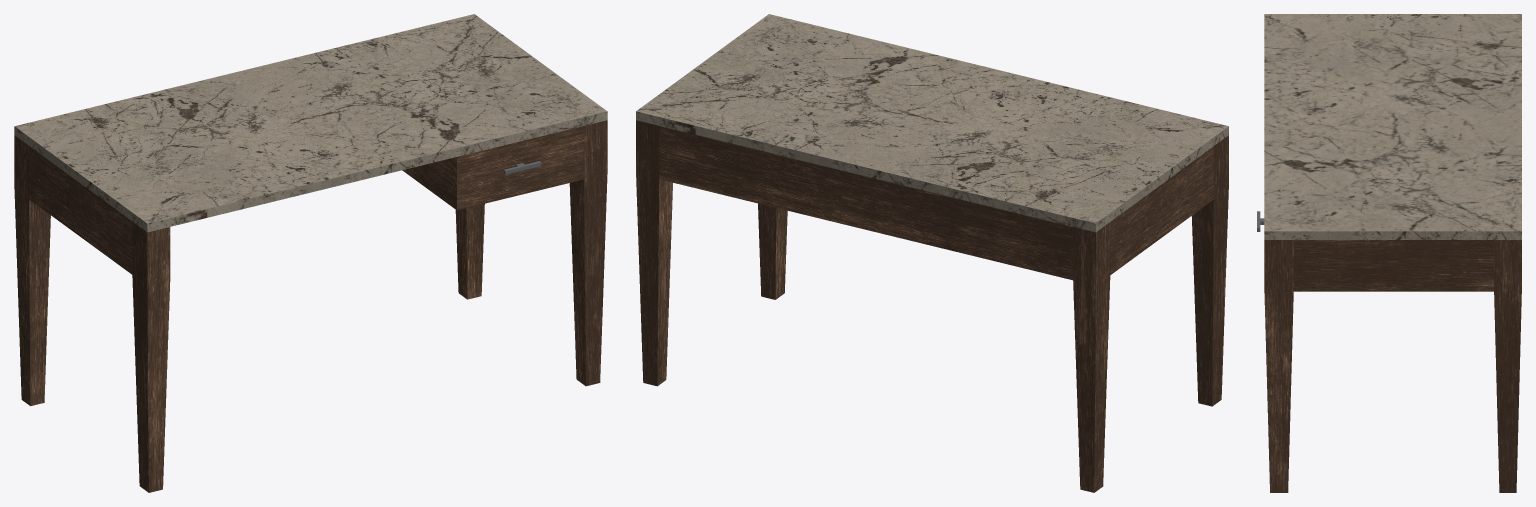
Rendered from Desk.glb.
3 views of the same model, side by side, from view 1: azimuth 30°, elevation 25°; view 2: azimuth 150°, elevation 25°; view 3: azimuth 270°, elevation 25° (orthographic). The views are drawn at different scales.
Visible parts, largest first — view 1: desk1; view 2: desk1; view 3: desk1.
Boxes of the visible parts, x1,y1,x2,y2 form: desk1: [14, 14, 607, 492]; desk1: [636, 14, 1228, 492]; desk1: [1257, 14, 1521, 492].
Bounding box in the file's own units: 2 × 1.13 × 1.03.
Materials: 1 (1 with a texture image).
